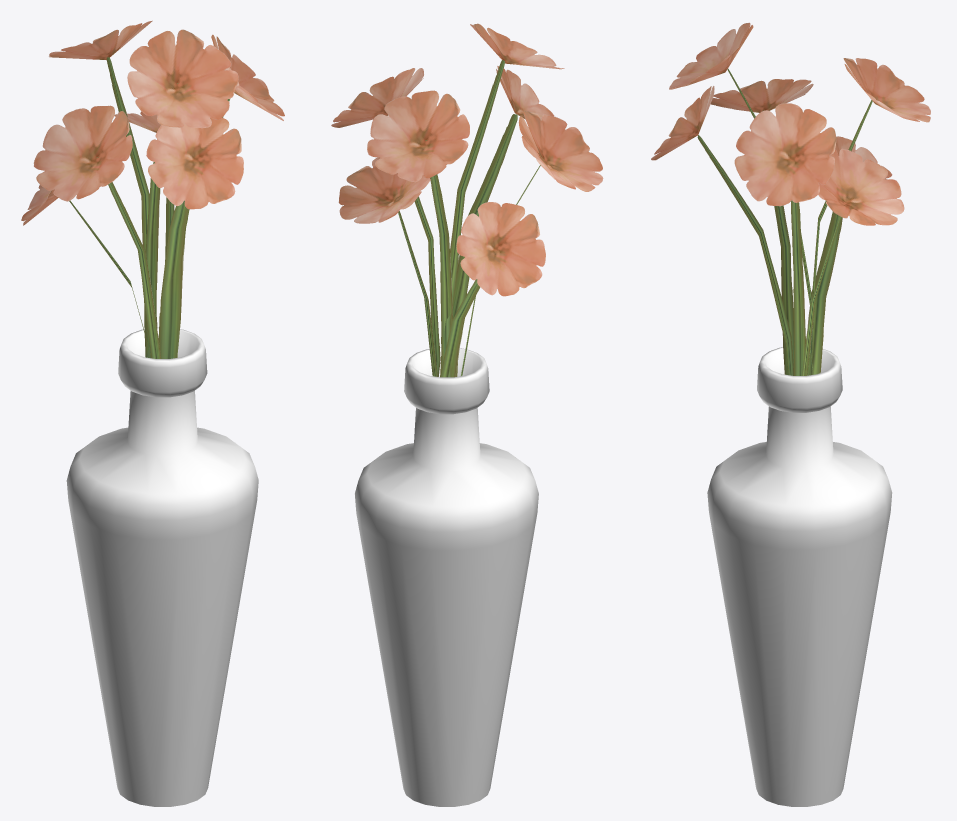
The model's file is SM_Potted_Soft_Pink_Flower_D.fbx.
3 renders of one model, left to right at view 1: azimuth 30°, elevation 25°; view 2: azimuth 150°, elevation 25°; view 3: azimuth 270°, elevation 25°, orthographic. The views are drawn at different scales.
Parts seen in each view (by area): view 1: SM_Potted_Soft_Pink_Flower_D_LOD0; view 2: SM_Potted_Soft_Pink_Flower_D_LOD0; view 3: SM_Potted_Soft_Pink_Flower_D_LOD0.
Boxes of the visible parts, box(x1,y1,x2,y2) form: SM_Potted_Soft_Pink_Flower_D_LOD0: box(21, 20, 284, 806); SM_Potted_Soft_Pink_Flower_D_LOD0: box(331, 23, 603, 806); SM_Potted_Soft_Pink_Flower_D_LOD0: box(651, 22, 930, 806).
Bounding box in the file's own units: 22.83 × 23.05 × 64.65.
2 materials, 1 textured.
